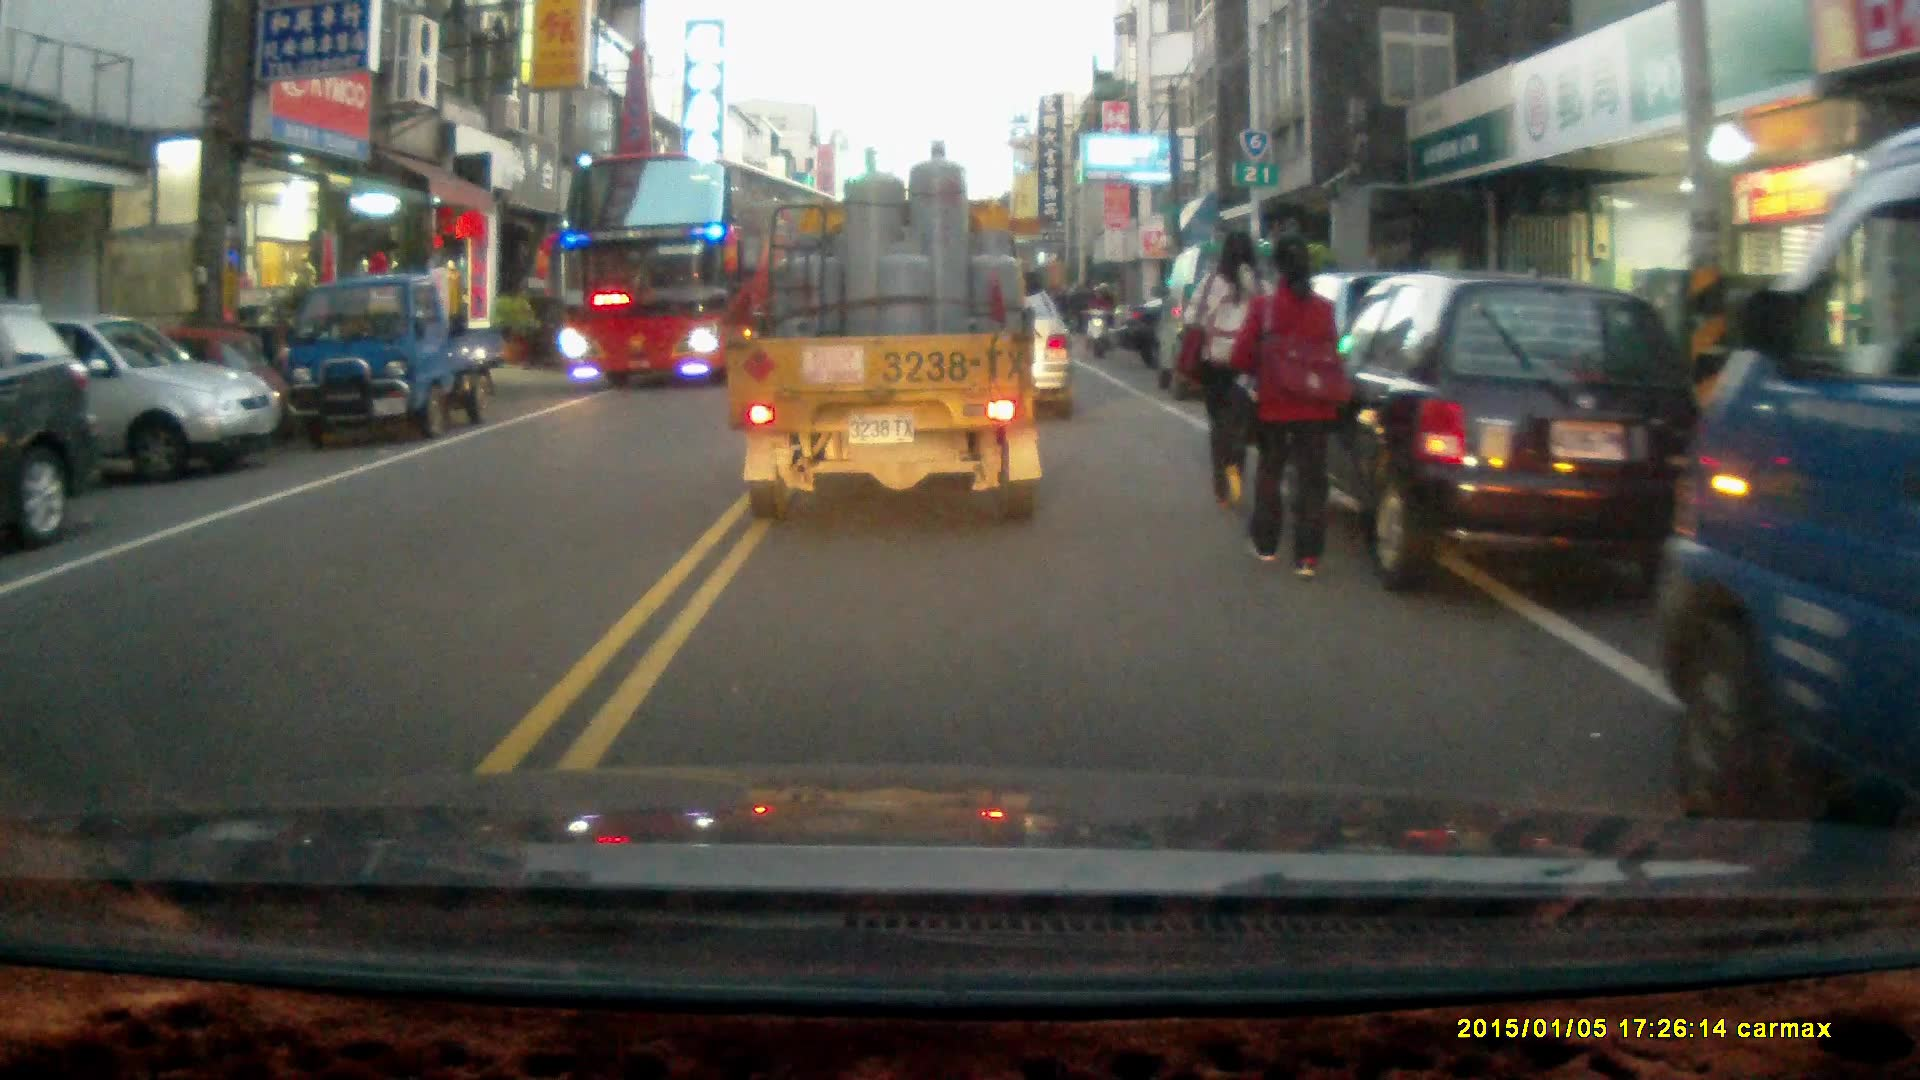pedestrian: (1229, 230, 1347, 582), (1186, 230, 1285, 518)
rider: (1082, 280, 1120, 361)
vehicle: (1295, 274, 1718, 604), (732, 142, 1051, 531), (558, 149, 844, 394), (1, 309, 282, 487), (282, 275, 508, 437), (1, 302, 107, 550)
